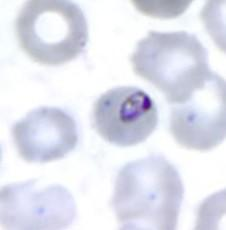Infected: (89, 85, 158, 149)
Uninfected: (131, 32, 210, 102), (112, 153, 181, 230), (167, 65, 226, 150), (14, 0, 85, 65), (9, 106, 78, 164), (0, 180, 76, 230)
